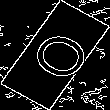O_SE: (16, 23, 94, 87)
